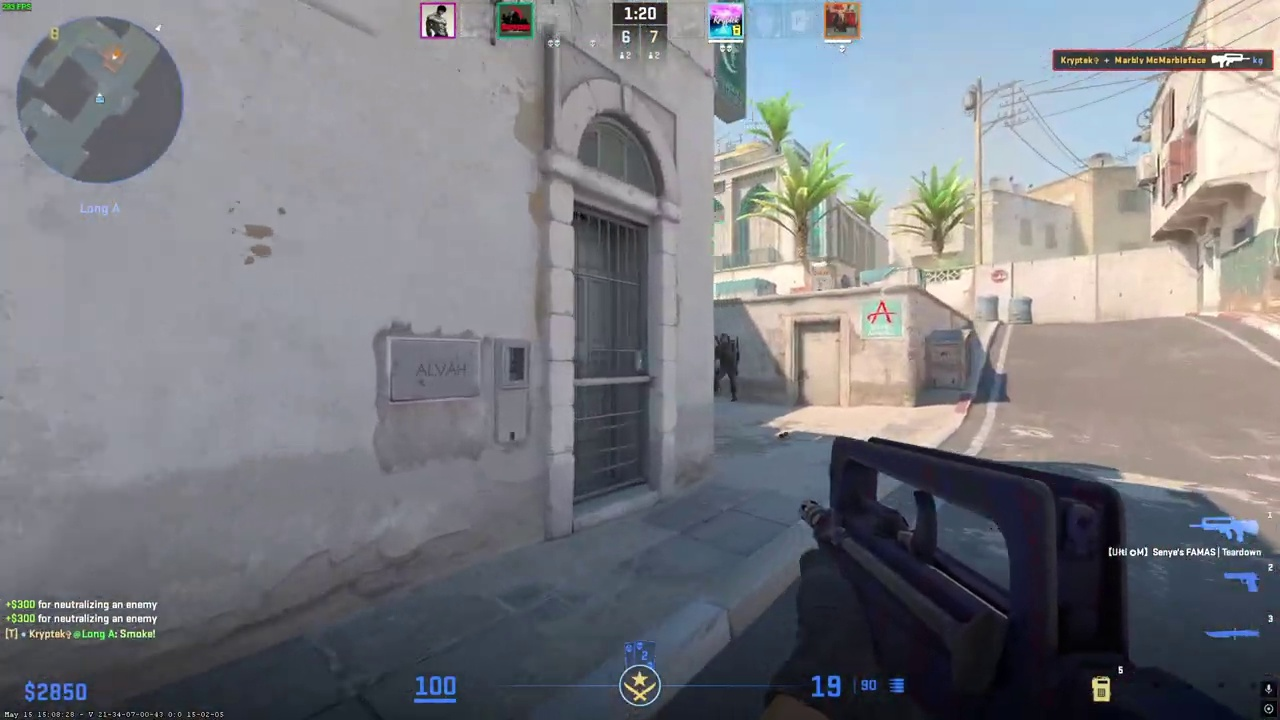CT: (714, 333, 739, 402)
